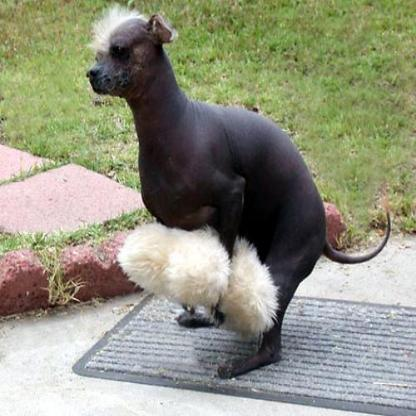Mexican_hairless: (85, 5, 391, 378)
